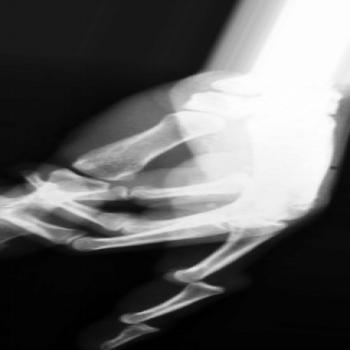Fracture: (168, 264, 241, 300), (110, 308, 165, 337)
